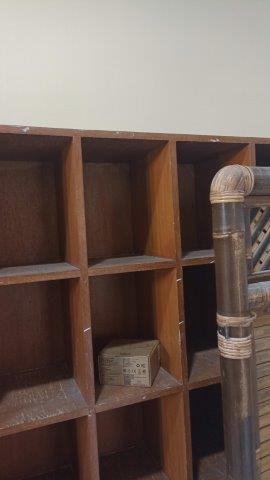kardus: (98, 338, 159, 386)
